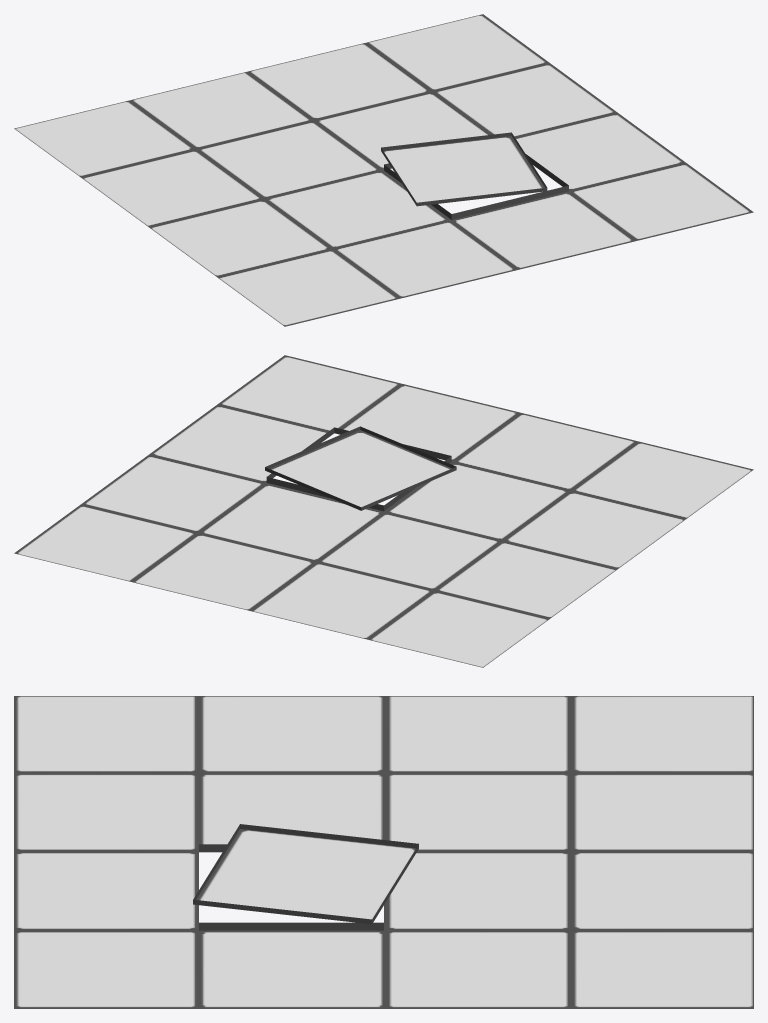
File: G_Roof_Playspace.fbx
The picture shows the model from 3 angles, top to bottom: view 1: azimuth 30°, elevation 25°; view 2: azimuth 150°, elevation 25°; view 3: azimuth 270°, elevation 25°; orthographic projection. The views are drawn at different scales.
Parts seen in each view (by area): view 1: G_Roof_Playspace; view 2: G_Roof_Playspace; view 3: G_Roof_Playspace.
Part boxes in pixels (bbox=[...]): G_Roof_Playspace: bbox=[14, 14, 753, 326]; G_Roof_Playspace: bbox=[14, 355, 753, 667]; G_Roof_Playspace: bbox=[14, 696, 753, 1008].
Bounding box in the file's own units: 231 × 5.25 × 231.
1 material, 1 textured.
